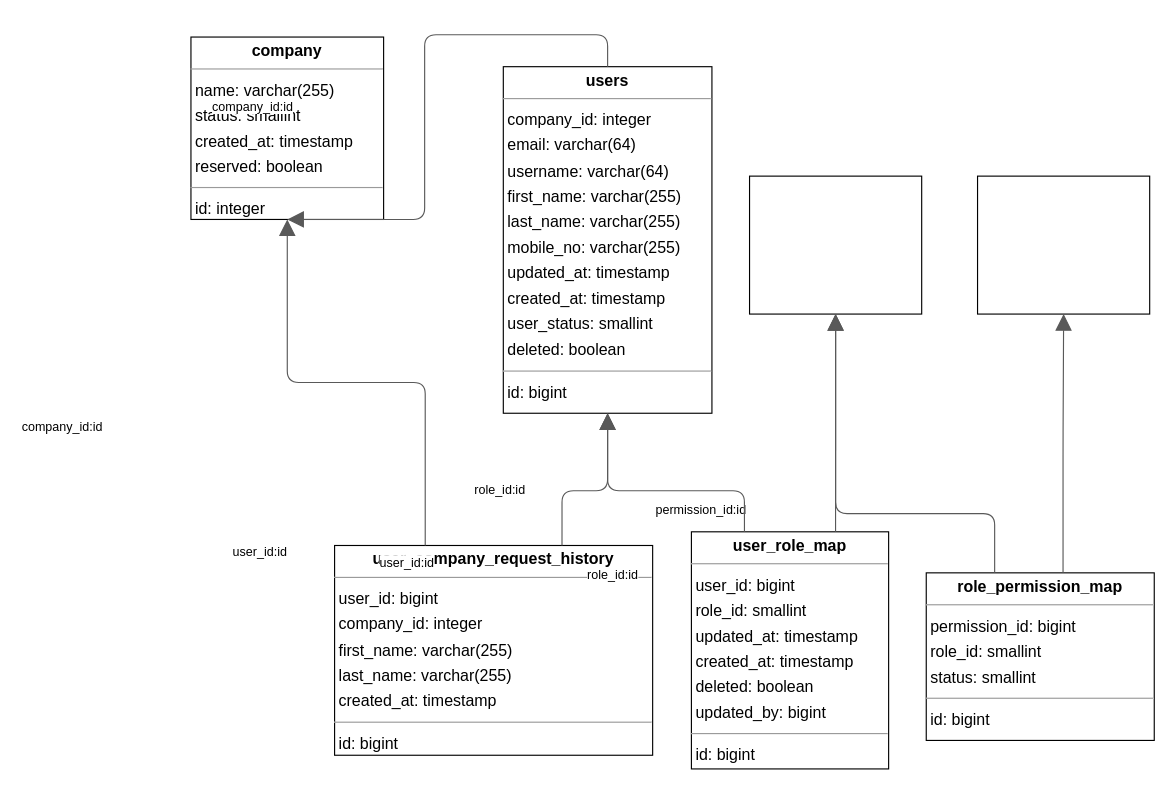
The diagram is 1174 pixels wide and 789 high, and some of its shapes have lost their labels. Each missing label, with the box of its shape:
permission name: varchar(255) status: smallint id: bigint: (976, 175, 1150, 314)
role name: varchar(255) status: smallint id: smallint: (748, 175, 922, 314)
